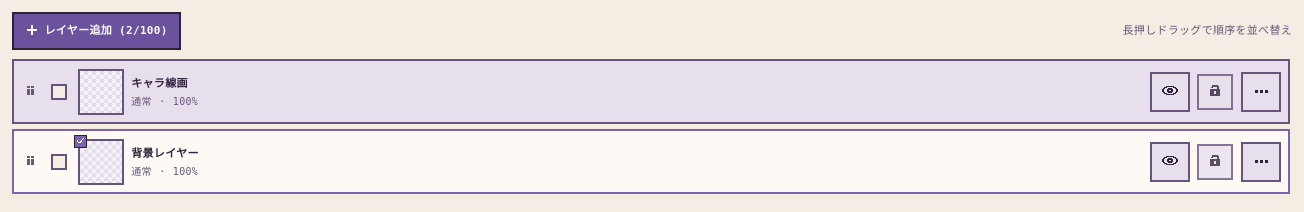
Test case: UX Improvements (Sections 4-1, 4-2, 4-3, 4-4, 4-7) › 4-1: double-click and touch double-tap on layer name open inline rename with focus+select, Enter saves, Escape cancels, empty string rejected
The width and height of the screenshot is (1304, 212).
Later steps or results of the test are not shown.
Click the text with test id "layer-name-label-l2": point(160, 84) [131, 75, 188, 93]
Double-click the text with test id "layer-name-label-l2": point(160, 84) [131, 75, 188, 93]
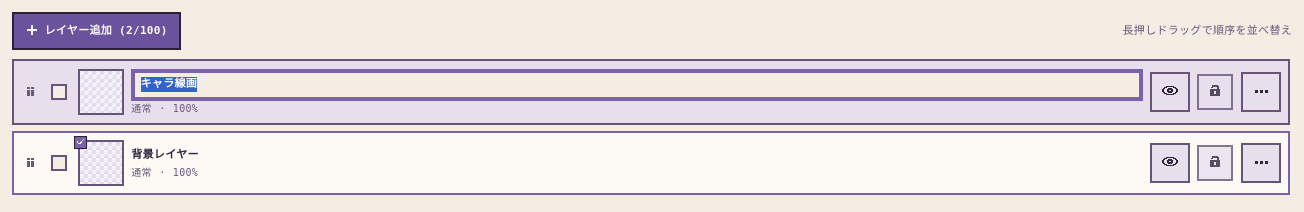
Result: the field with test id "layer-rename-input-l2" holds "キャラ線画" at [131, 68, 1143, 100]
